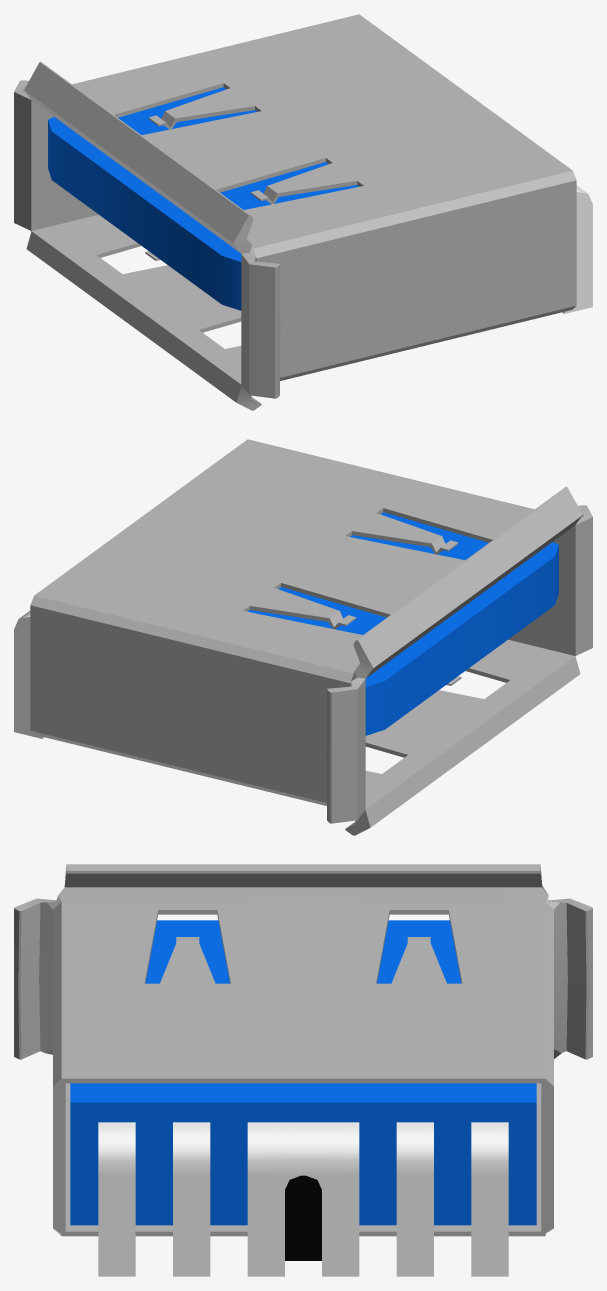
The model's file is ubs_port_spawner.fbx.
3 views of the same model, one above another, from view 1: azimuth 30°, elevation 25°; view 2: azimuth 150°, elevation 25°; view 3: azimuth 270°, elevation 25° (orthographic). The views are drawn at different scales.
Parts seen in each view (by area): view 1: usb_casing, usb_inside, pins; view 2: usb_casing, usb_inside, pins; view 3: usb_casing, usb_inside, pins.
Boxes of the visible parts, box(x1,y1,x2,y2) form: usb_casing: box(14, 14, 576, 410); usb_inside: box(48, 87, 358, 310); pins: box(562, 186, 592, 313); usb_casing: box(30, 439, 592, 835); usb_inside: box(248, 512, 558, 735); pins: box(14, 611, 44, 738); usb_casing: box(14, 864, 592, 1236); usb_inside: box(70, 920, 536, 1225); pins: box(98, 1122, 508, 1276).
Bounding box in the file's own units: 227 × 114 × 269.
